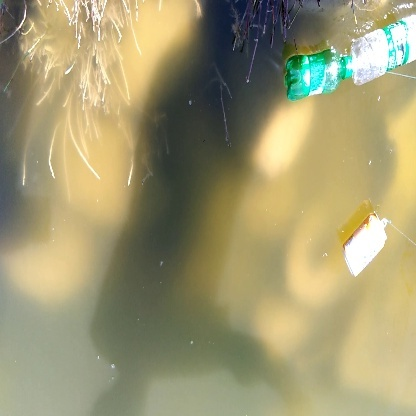bottle: (333, 199, 397, 295), (286, 48, 355, 102)
